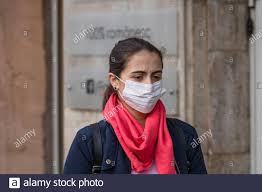surgical: (120, 77, 166, 111)
